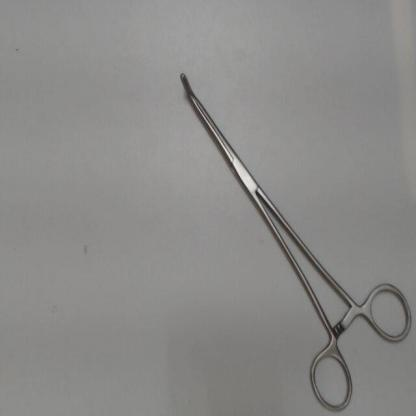Lahey Forceps: (174, 61, 415, 413)
